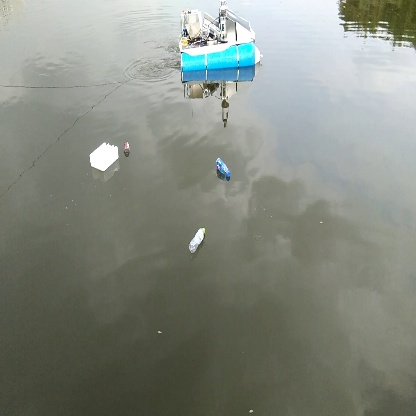bottle: (188, 225, 209, 256), (214, 155, 235, 183)
plastic-garbage: (86, 140, 123, 174)
